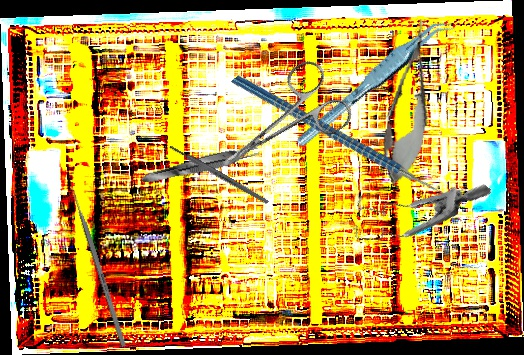Chopper: (231, 12, 467, 259)
Iris Scissors: (201, 54, 357, 195)
Micro Scissor: (375, 15, 444, 189)
Pusher: (66, 176, 127, 348)
Scalpel Handle: (168, 143, 270, 206)
Speculum: (337, 127, 493, 284)
Tissue Forceps: (283, 13, 465, 150), (138, 142, 262, 188)
